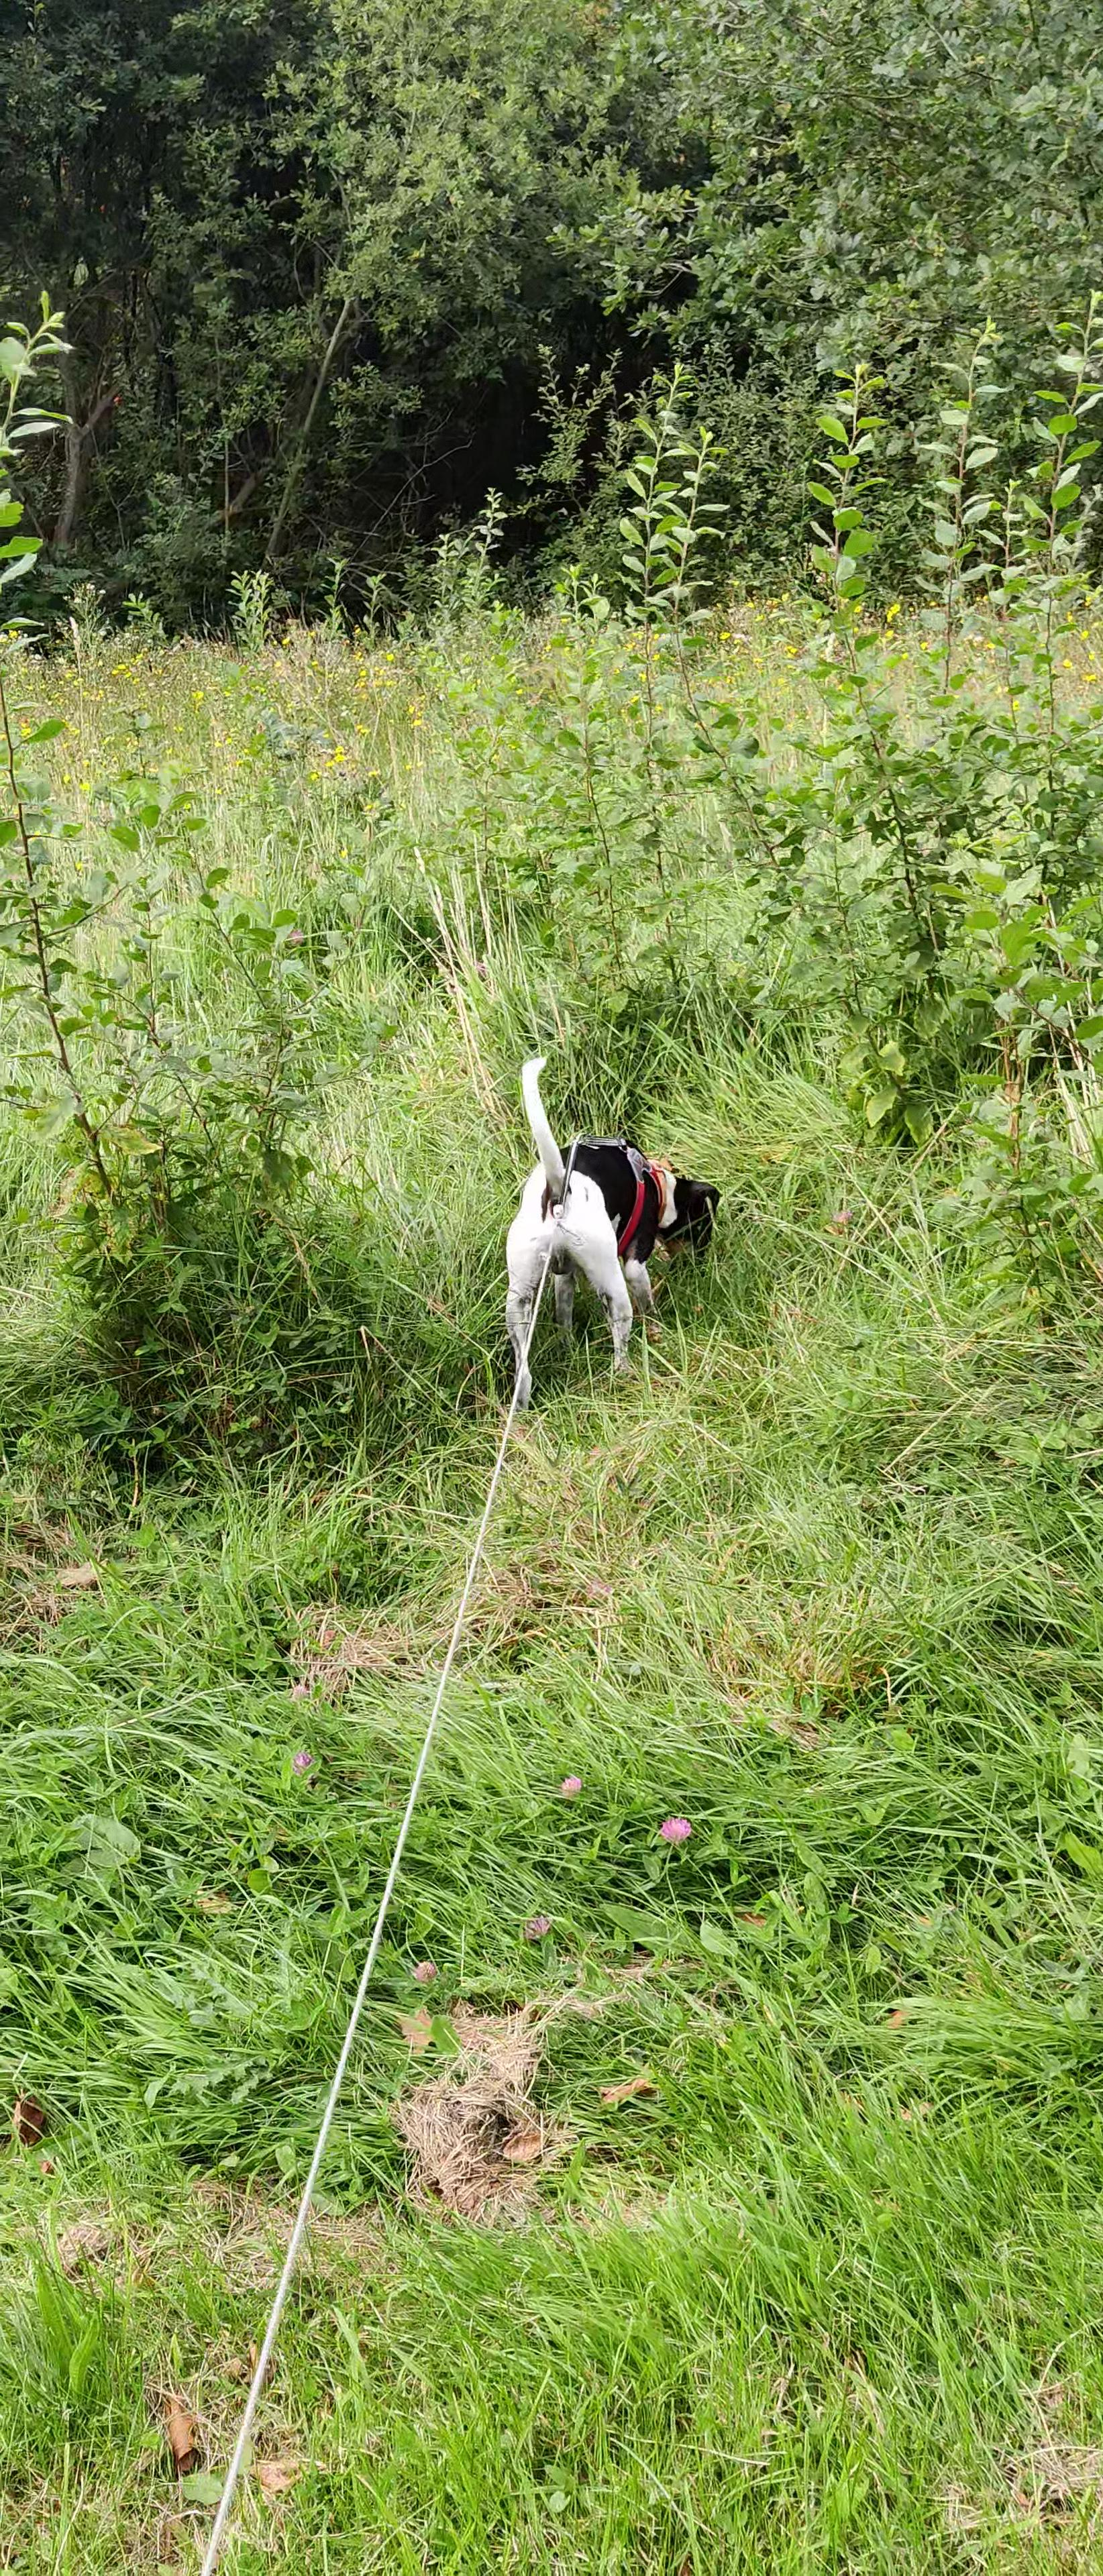Dog: (498, 1046, 723, 1408)
